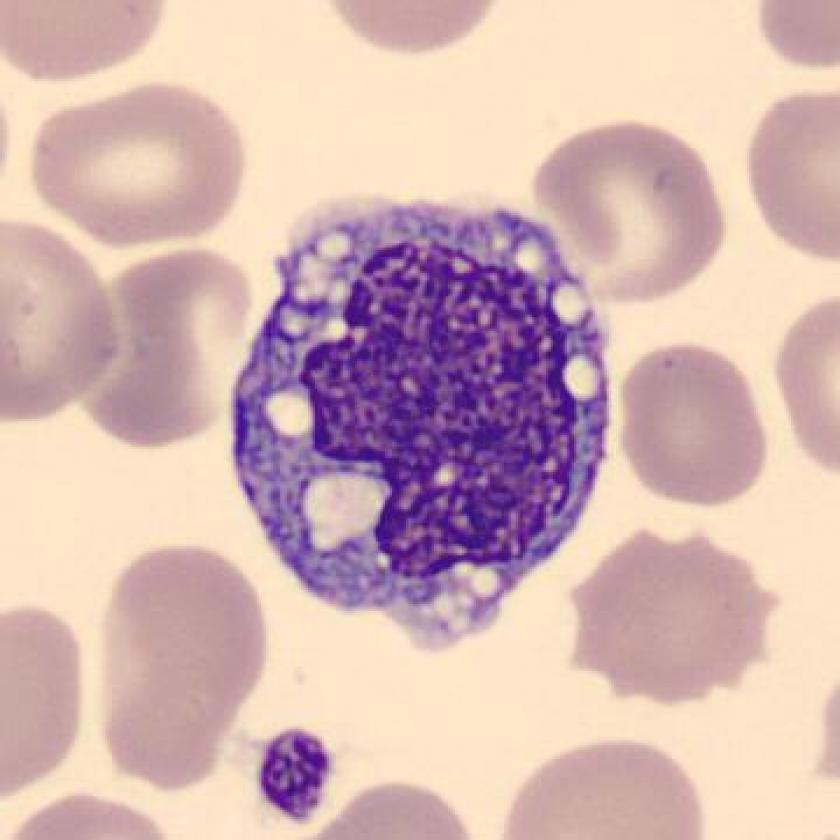monocyte: (211, 175, 636, 672)
